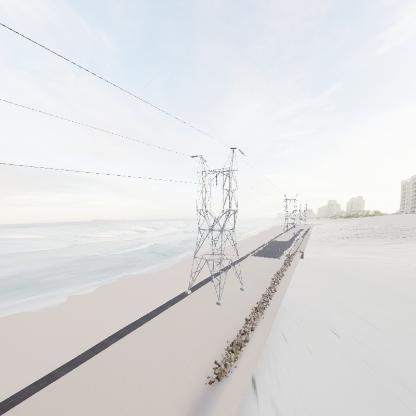tower: (184, 144, 247, 304), (282, 189, 299, 228)
